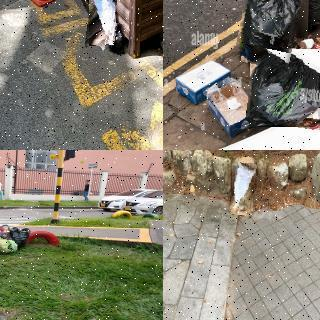Garbage: (248, 46, 320, 129), (237, 0, 302, 68), (230, 163, 256, 215), (87, 0, 116, 46), (281, 0, 320, 31), (106, 22, 126, 55), (10, 227, 29, 248), (0, 237, 20, 256), (0, 224, 11, 240)
